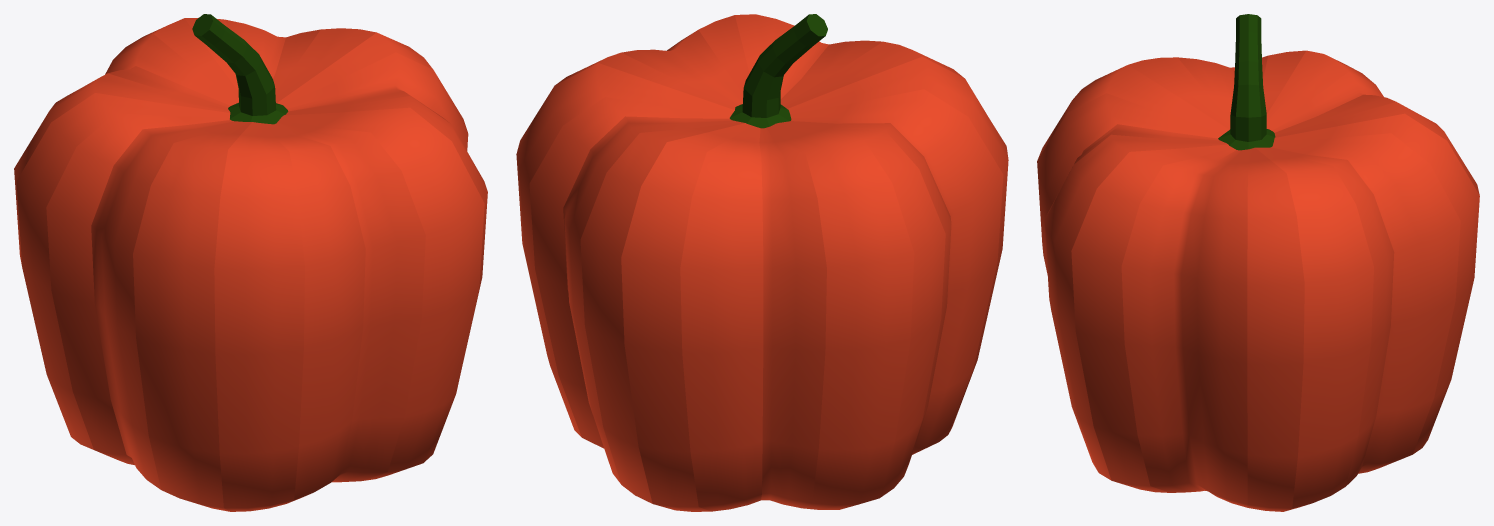
The model's file is pepper 1.fbx.
The picture shows the model from 3 angles, left to right: view 1: azimuth 30°, elevation 25°; view 2: azimuth 150°, elevation 25°; view 3: azimuth 270°, elevation 25°; orthographic projection. The views are drawn at different scales.
Parts seen in each view (by area): view 1: pepper; view 2: pepper; view 3: pepper.
Boxes of the visible parts, bbox=[...] form: pepper: bbox=[14, 14, 487, 511]; pepper: bbox=[516, 14, 1008, 511]; pepper: bbox=[1037, 14, 1479, 511].
Size of the model in its own units: 1.95 by 2.08 by 1.95.
